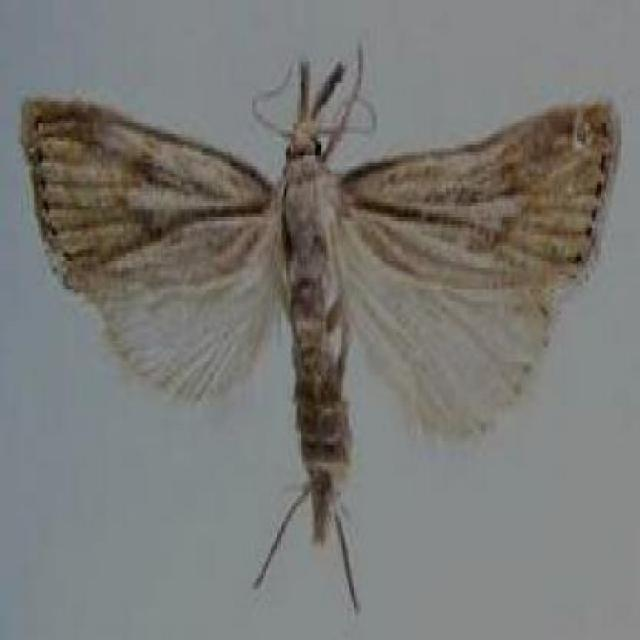stem-borer: (19, 34, 623, 617)
